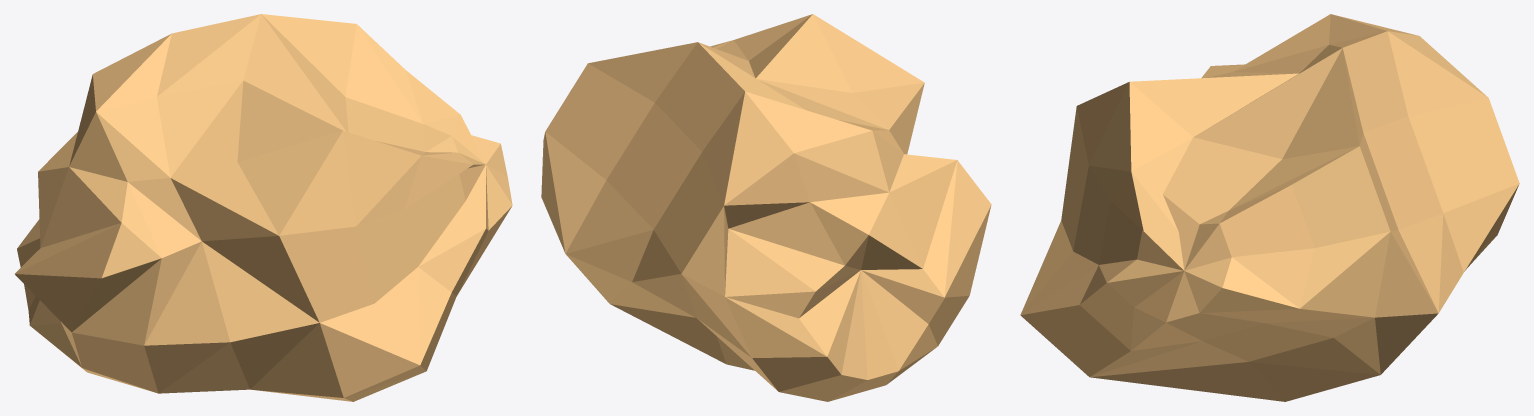
The model's file is asteroid_rock.glb.
The picture shows the model from 3 angles, left to right: view 1: azimuth 30°, elevation 25°; view 2: azimuth 150°, elevation 25°; view 3: azimuth 270°, elevation 25°; orthographic projection. The views are drawn at different scales.
Parts seen in each view (by area): view 1: group1446250878; view 2: group1446250878; view 3: group1446250878.
Part boxes in pixels (x1,y1,x2,y2): group1446250878: [15, 14, 512, 401]; group1446250878: [541, 14, 991, 401]; group1446250878: [1020, 14, 1519, 401].
Bounding box in the file's own units: 1.5 × 1.09 × 1.4.
